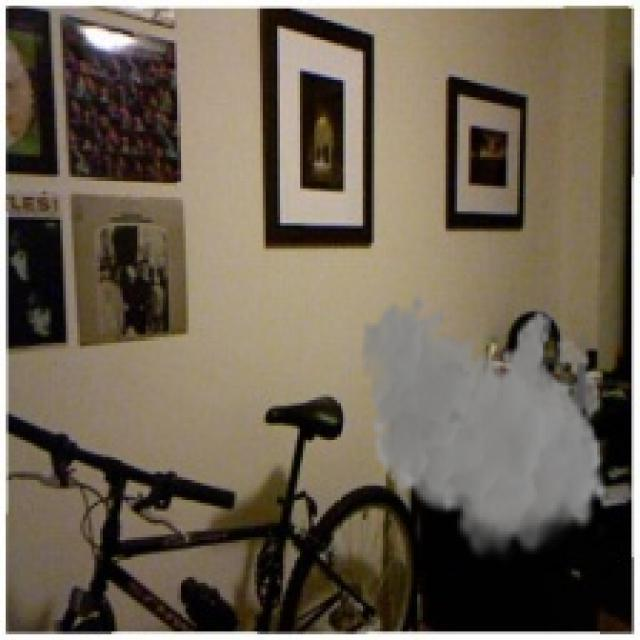Smoke: (361, 294, 608, 566)
